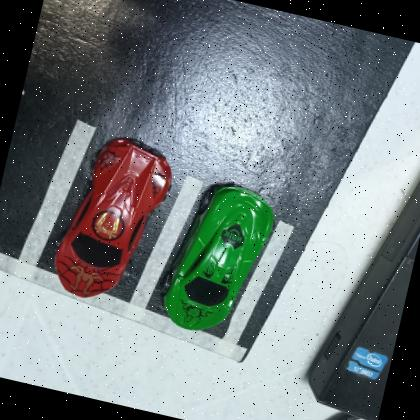Car: (54, 136, 172, 296), (162, 183, 276, 329)
